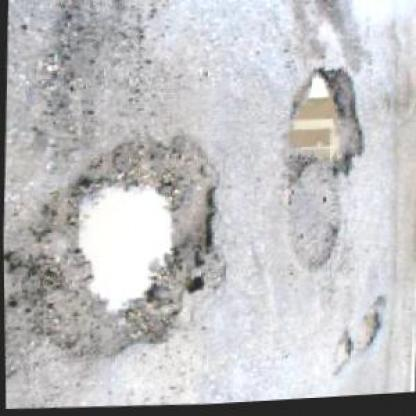pothole: (1, 129, 229, 370), (282, 67, 370, 194), (352, 300, 388, 354), (327, 333, 354, 381)
